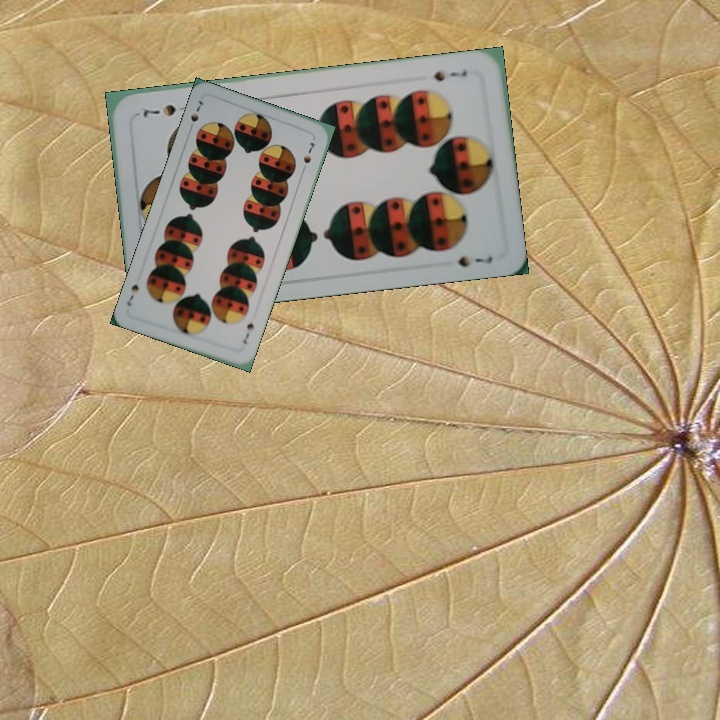S7: (185, 97, 206, 134), (430, 66, 470, 84), (239, 319, 257, 347)
